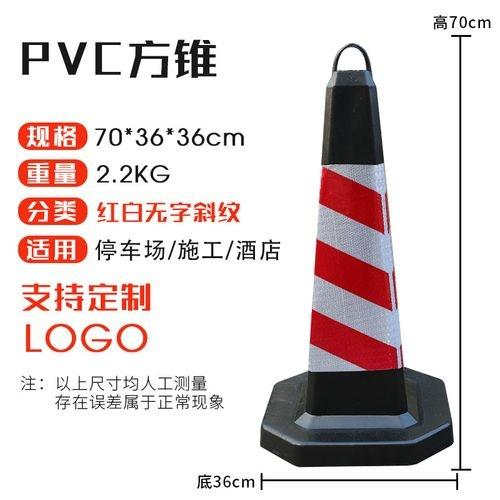cone_barrel: (279, 54, 436, 453)
